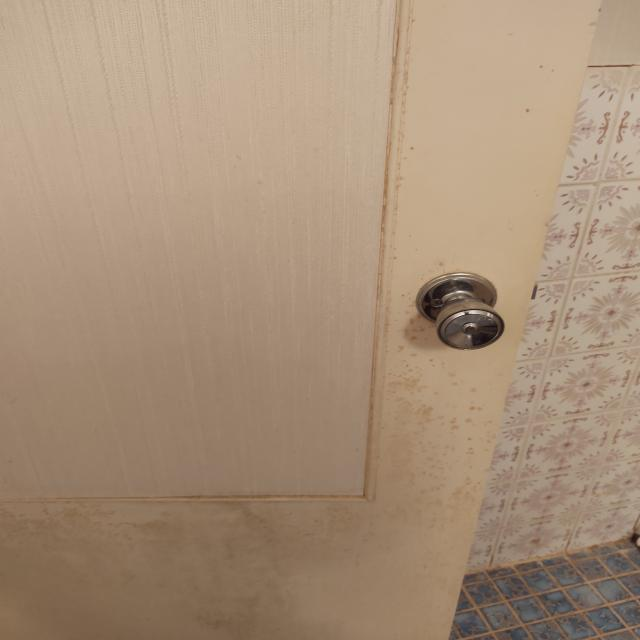door-knob: (416, 272, 504, 350)
